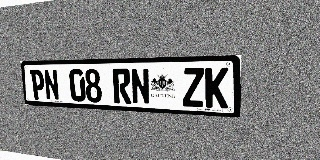0: (69, 69, 86, 102)
8: (84, 69, 102, 103)
K: (205, 67, 228, 108)
N: (130, 68, 150, 105), (43, 69, 60, 101)
P: (30, 69, 46, 100)
R: (112, 69, 131, 104)
Z: (182, 68, 204, 107)
